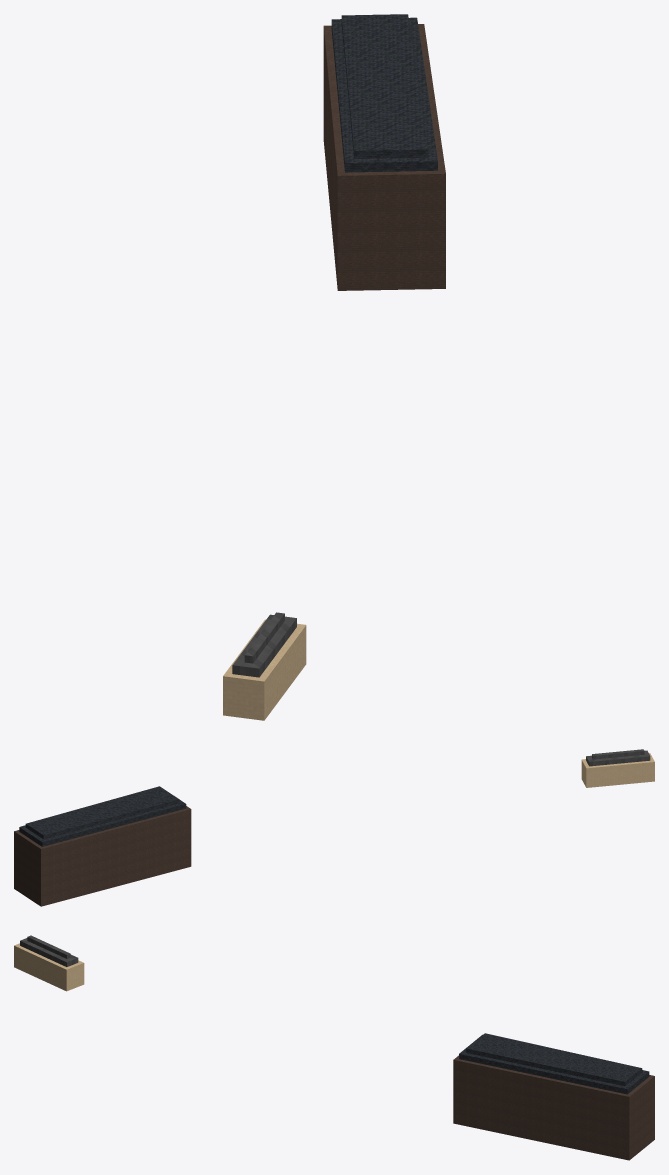
3 renders of one model, top to bottom at view 1: azimuth 30°, elevation 25°; view 2: azimuth 150°, elevation 25°; view 3: azimuth 270°, elevation 25°, orthographic. The views are drawn at different scales.
Parts seen in each view (by area): view 1: bldg_517306188, bldg_517306188_roof_b, bldg_517306188_roof_a, bldg_1186863937, bldg_1186863937_roof_a; view 2: bldg_517306188, bldg_517306188_roof_b, bldg_1186863937, bldg_517306188_roof_a, bldg_1186863937_roof_a, bldg_1186863937_roof_b; view 3: bldg_517306188, bldg_517306188_roof_b, bldg_1186863937, bldg_517306188_roof_a, bldg_1186863937_roof_a.
Boxes of the visible parts, x1,y1,x2,y2 form: bldg_517306188: (323,24,445,290); bldg_517306188_roof_b: (341,14,427,158); bldg_517306188_roof_a: (331,17,437,172); bldg_1186863937: (223,619,306,720); bldg_1186863937_roof_a: (232,614,296,677); bldg_517306188: (14,806,191,906); bldg_517306188_roof_b: (25,786,179,839); bldg_1186863937: (581,753,654,787); bldg_517306188_roof_a: (19,800,186,846); bldg_1186863937_roof_a: (586,750,650,766); bldg_1186863937_roof_b: (592,749,644,759); bldg_517306188: (453,1055,654,1160); bldg_517306188_roof_b: (466,1033,642,1085); bldg_1186863937: (14,943,84,991); bldg_517306188_roof_a: (459,1034,649,1094); bldg_1186863937_roof_a: (20,938,78,966).
Bounding box in the file's own units: 62.3 × 10.63 × 84.31.
Materials: 4 (4 with a texture image).
